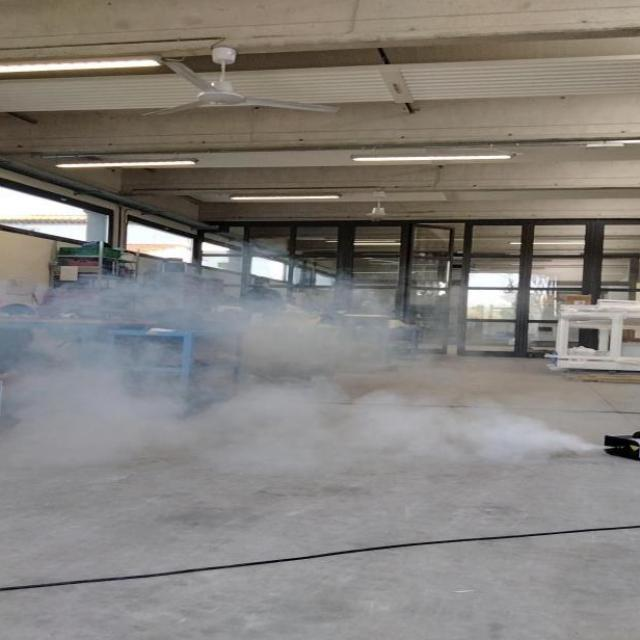fire: (0, 266, 606, 464)
